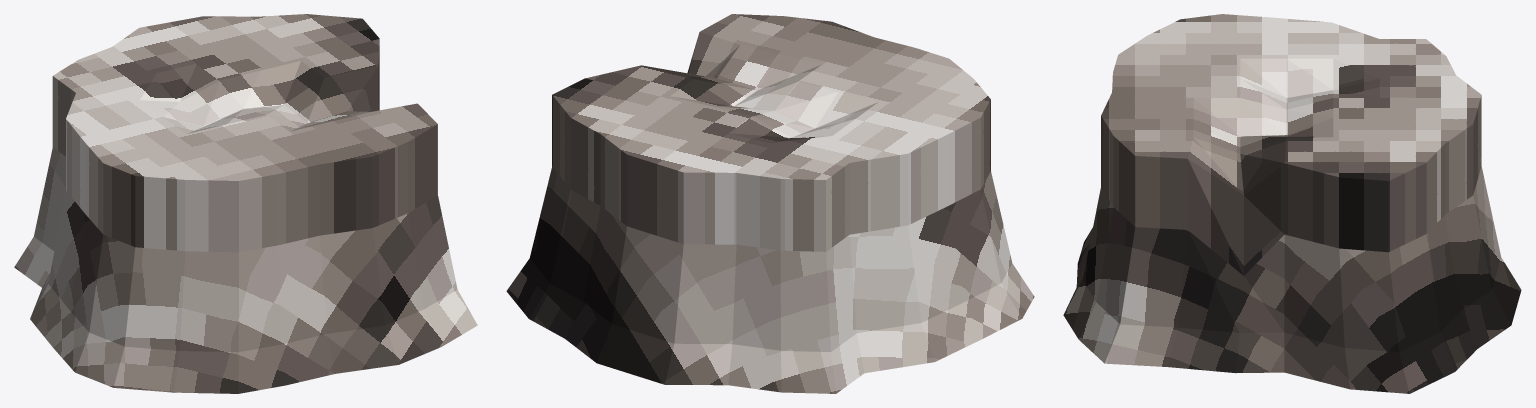
Rendered from Rock_341x05.gltf.
3 views of the same model, side by side, from view 1: azimuth 30°, elevation 25°; view 2: azimuth 150°, elevation 25°; view 3: azimuth 270°, elevation 25° (orthographic).
Parts seen in each view (by area): view 1: Rock_341x05; view 2: Rock_341x05; view 3: Rock_341x05.
Part boxes in pixels (x1,y1,x2,y2): Rock_341x05: [14, 14, 477, 393]; Rock_341x05: [506, 14, 1034, 393]; Rock_341x05: [1063, 14, 1521, 393].
Size of the model in its own units: 1.63 by 0.7422 by 1.57.
Materials: 1 (1 with a texture image).
